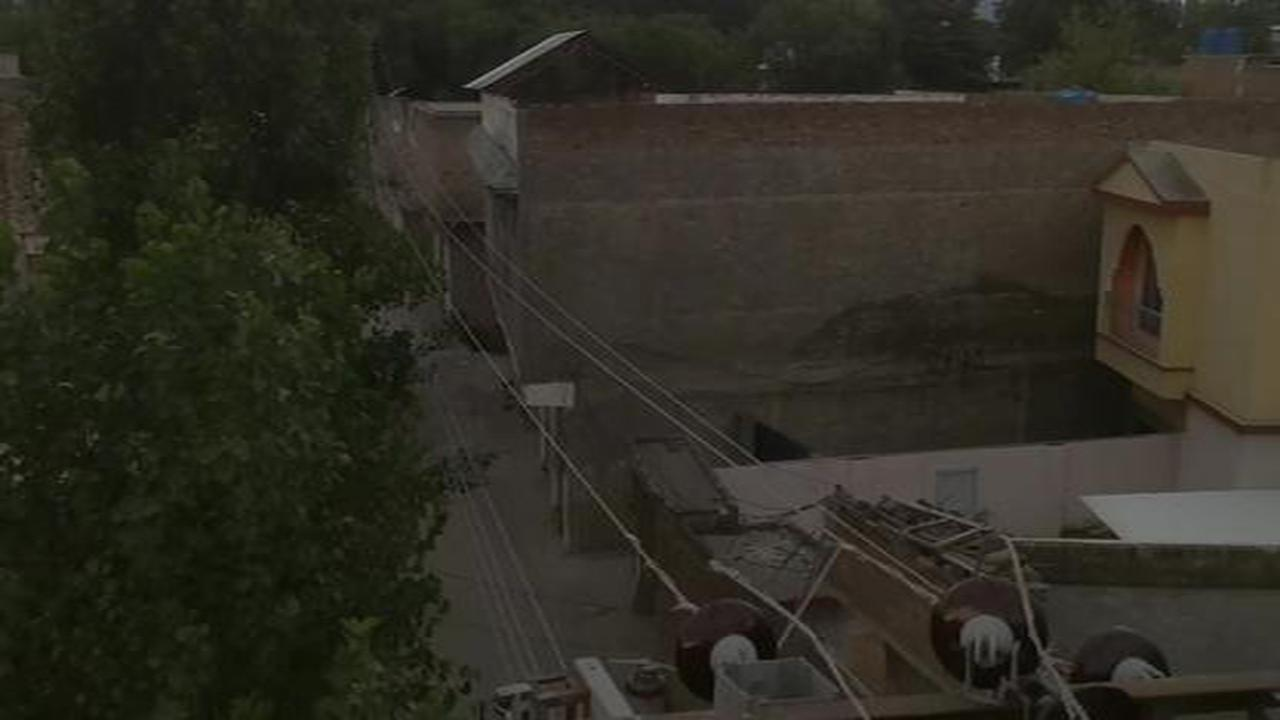insulator_disc: (929, 573, 1051, 687), (665, 596, 783, 695), (1068, 622, 1179, 713)
